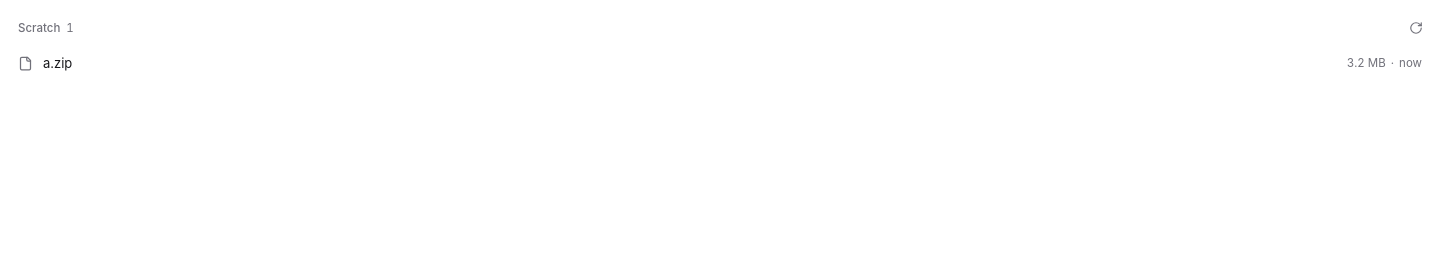
Test: Files page › says why a file cannot be shown, and retries other failures
Later steps or results of the test are not shown.
What coordinates should you click on to do the following:
click the button "a.zip 3.2 MB · now"
I would click on:
 (1366, 63)
Its box is [8, 46, 1432, 80].
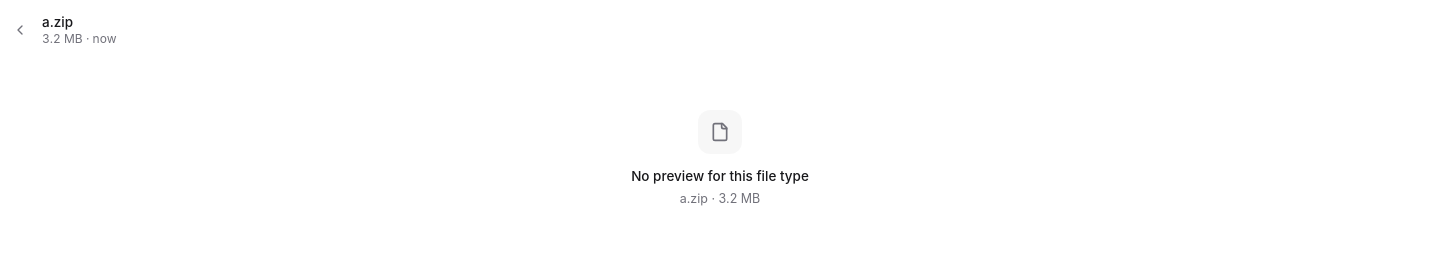
Check: the text "No preview for this file type" is shown, box [631, 166, 809, 186]
Check: the text "a.zip · 3.2 MB" is shown, box [680, 190, 760, 209]
What coordinates should you click on to do the following:
click the button named "Back to files"
I would click on:
 (20, 30)
Its box is [6, 16, 34, 44].
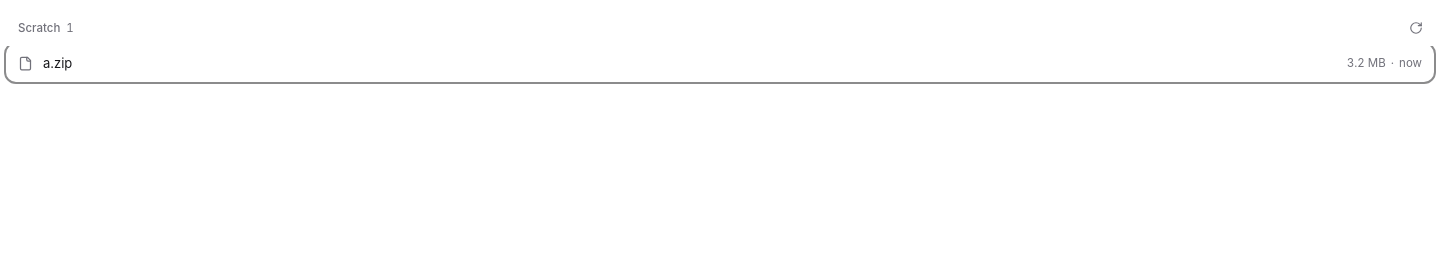
What coordinates should you click on to do the following:
click the button "a.zip 3.2 MB · now"
I would click on:
 (1366, 63)
Its box is [8, 46, 1432, 80].
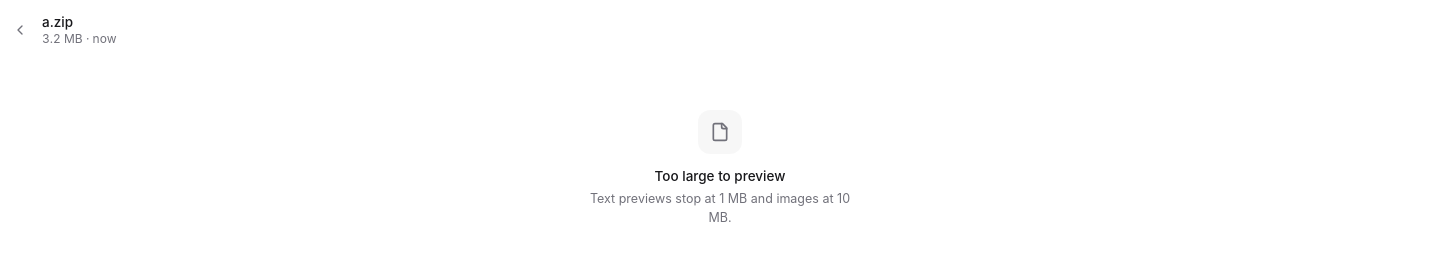
Check: the text "Text previews stop at 1 MB" is shown, box [590, 191, 850, 225]
What coordinates should you click on to do the following:
click the button named "Back to files"
I would click on:
 (20, 30)
Its box is [6, 16, 34, 44].
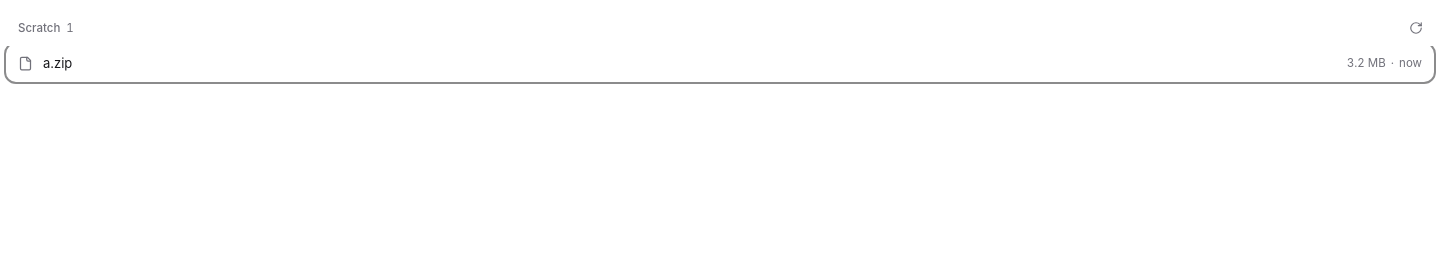
What coordinates should you click on to do the following:
click the button "a.zip 3.2 MB · now"
I would click on:
 (1366, 63)
Its box is [8, 46, 1432, 80].
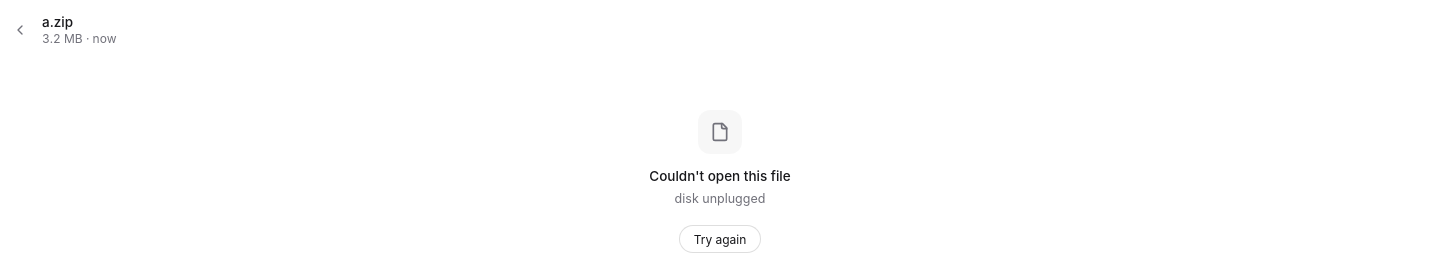
Check: the text "Couldn't open this file" is shown, box [649, 166, 791, 186]
